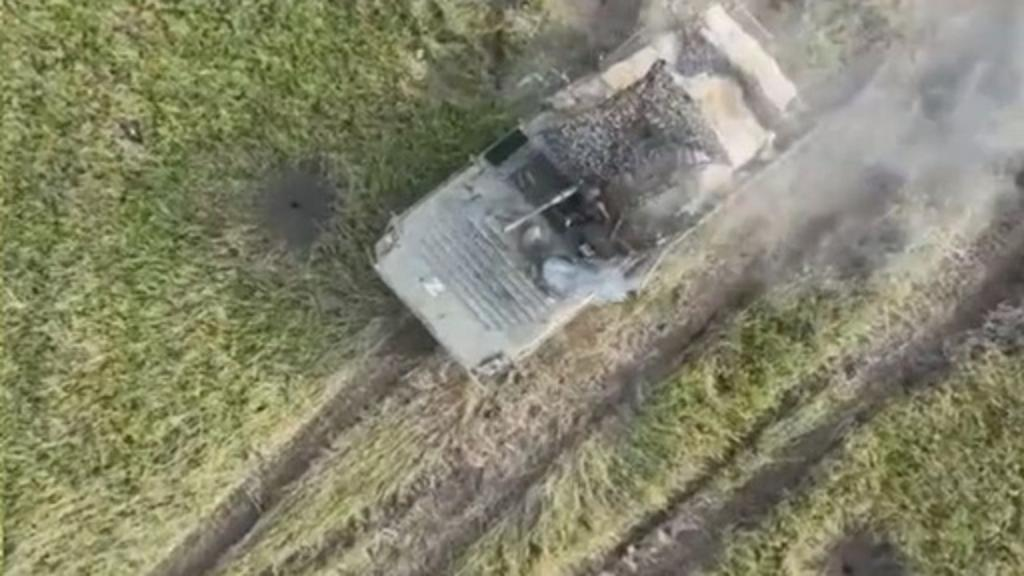APC-IFV: (366, 4, 812, 380)
